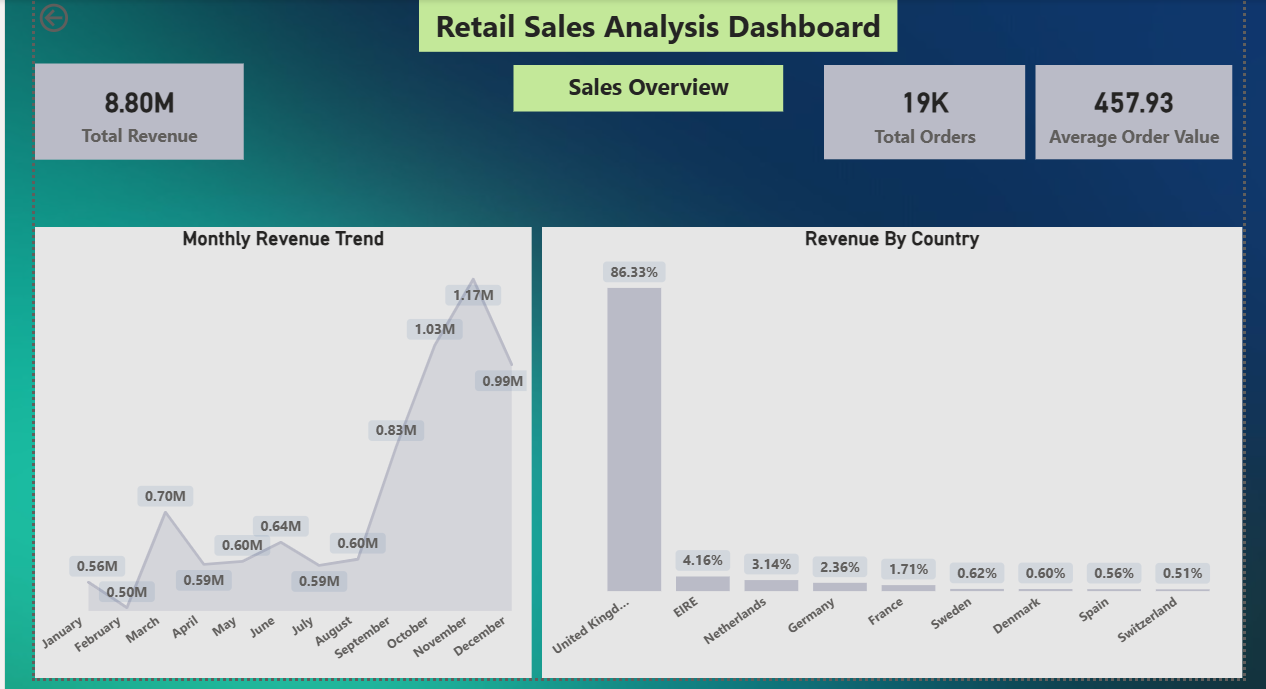

Layout of this report page (visuals, bound fields, positions):
{"tool":"powerbi","page":{"name":"Page 1","canvas":[1280,720],"ordinal":0},"visuals":[{"type":"textbox","box":[407.2,0,507.4,55.7],"z":0},{"type":"textbox","box":[507.4,70,286.3,49.3],"z":1000},{"type":"card","fields":{"Values":["retail retail_sales.Total Revenue"]},"box":[0,68.4,221.1,101.8],"z":2000},{"type":"card","fields":{"Values":["retail retail_sales.Total Orders"]},"box":[836.7,70,213.1,100.2],"z":3000},{"type":"actionButton","box":[0,0,100,40],"z":4000},{"type":"card","fields":{"Values":["retail retail_sales.Average Order Value"]},"box":[1060.9,70,208.4,100.2],"z":5000},{"type":"lineChart","title":"Monthly Revenue Trend","fields":{"Category":["retail retail_sales.InvoiceDate.Variation.Date Hierarchy.Month"],"Y":["Sum(retail retail_sales.TotalAmount)"]},"box":[0,241.8,526.5,478.8],"z":6000},{"type":"clusteredColumnChart","title":"Revenue By Country","fields":{"Category":["retail retail_sales.Country"],"Y":["Divide(retail retail_sales.Total Revenue, ScopedEval(retail retail_sales.Total Revenue, []))"]},"box":[537.6,241.8,742.8,478.8],"z":7000}]}

Visuals, with their boxes in screenshot pixels (x1, y1, x2, y2):
textbox: 414, 0, 893, 49
textbox: 509, 63, 779, 109
card - retail retail_sales.Total Revenue: 30, 61, 238, 157
card - retail retail_sales.Total Orders: 819, 63, 1020, 157
actionButton: 30, 0, 124, 34
card - retail retail_sales.Average Order Value: 1031, 63, 1228, 157
"Monthly Revenue Trend" lineChart: 30, 225, 527, 677
"Revenue By Country" clusteredColumnChart: 537, 225, 1238, 677
